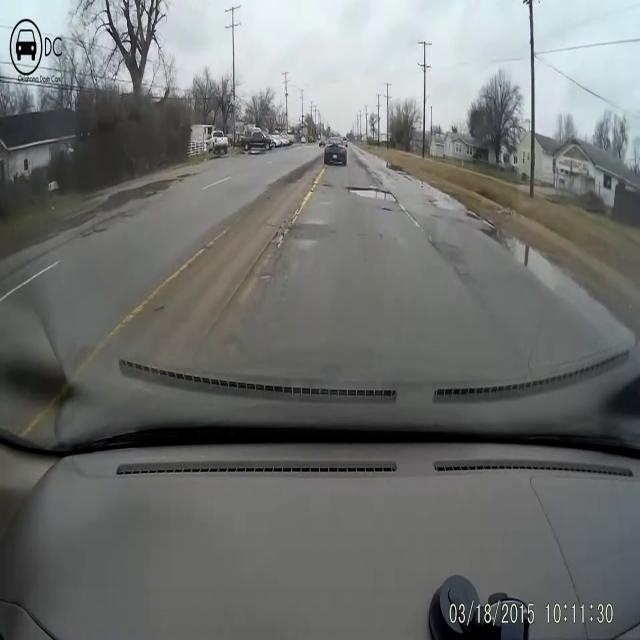pothole: (343, 173, 400, 216), (263, 210, 304, 260)
